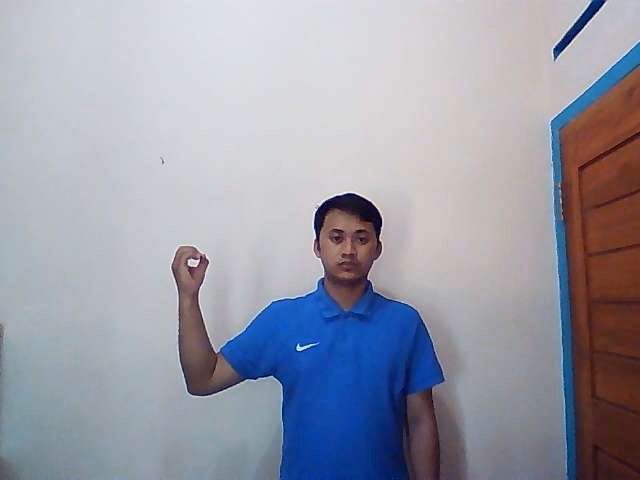O: (170, 244, 210, 294)
